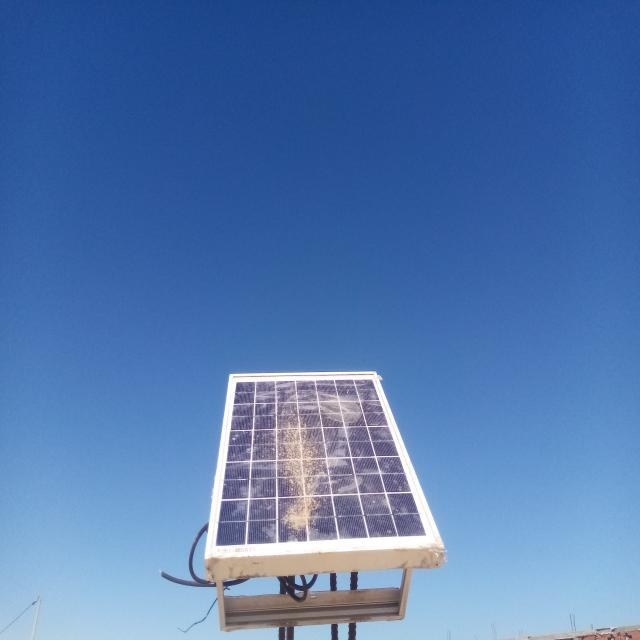faulty: (205, 371, 445, 558)
